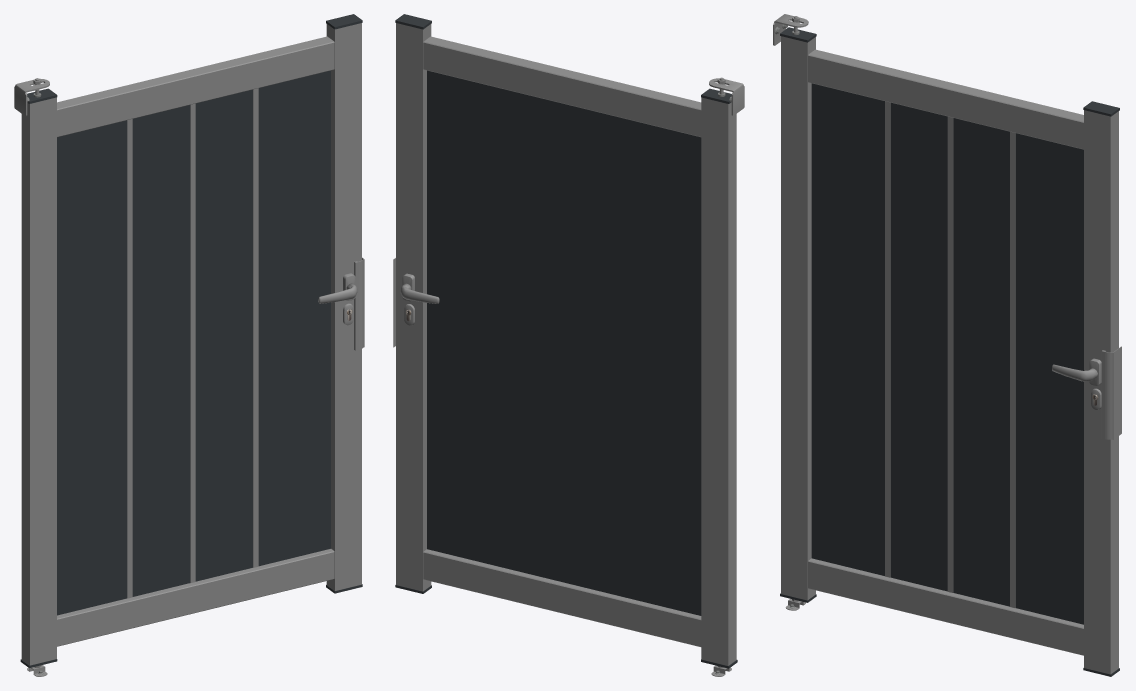
3 views of the same model, side by side, from view 1: azimuth 30°, elevation 25°; view 2: azimuth 150°, elevation 25°; view 3: azimuth 330°, elevation 25° (orthographic).
Visible parts, largest first — view 1: Chapa Alucobond038, Shape107412643, Shape107412638, Shape107412756, Shape107412757, Line050, Line049, Line051, Shape107412637, Rectangle057; view 2: Chapa Alucobond038, Shape107412643, Shape107412638, Shape107412756, Shape107412757, Rectangle057; view 3: Chapa Alucobond038, Shape107412638, Shape107412643, Shape107412756, Shape107412757, Line050, Line049, Line051, Shape107412637.
Part boxes in pixels (<box>): Chapa Alucobond038: <box>57,70,330,615</box>; Shape107412643: <box>21,97,56,665</box>; Shape107412638: <box>326,23,361,590</box>; Shape107412756: <box>57,36,334,137</box>; Shape107412757: <box>57,549,334,646</box>; Line050: <box>190,103,195,583</box>; Line049: <box>127,119,132,598</box>; Line051: <box>253,88,258,567</box>; Shape107412637: <box>354,257,364,350</box>; Rectangle057: <box>14,78,49,116</box>; Chapa Alucobond038: <box>427,70,701,615</box>; Shape107412643: <box>701,97,736,665</box>; Shape107412638: <box>396,23,431,591</box>; Shape107412756: <box>423,36,701,137</box>; Shape107412757: <box>423,549,701,646</box>; Rectangle057: <box>709,78,744,115</box>; Chapa Alucobond038: <box>811,83,1083,624</box>; Shape107412638: <box>1084,110,1118,674</box>; Shape107412643: <box>781,36,815,600</box>; Shape107412756: <box>808,49,1083,149</box>; Shape107412757: <box>808,558,1083,655</box>; Line050: <box>947,116,953,592</box>; Line049: <box>885,101,890,577</box>; Line051: <box>1010,131,1015,608</box>; Shape107412637: <box>1101,346,1121,439</box>.
Bounding box in the file's own units: 1015 × 1688 × 152.
7 materials, 4 textured.
